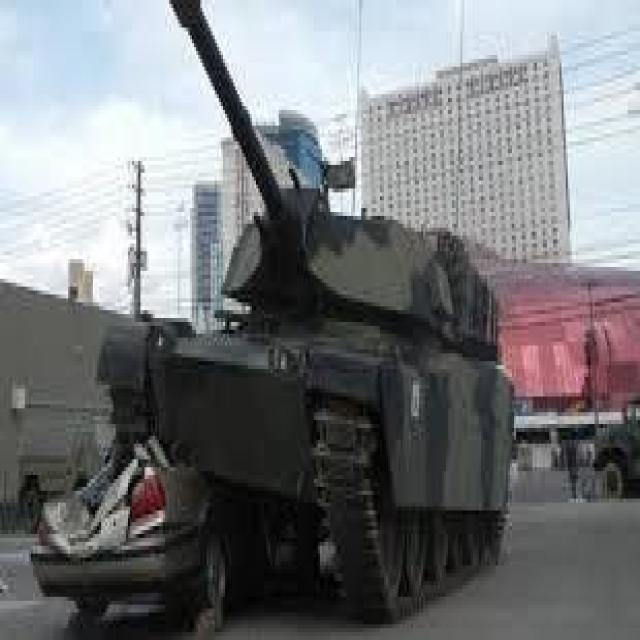Tanks: (110, 8, 564, 601)
